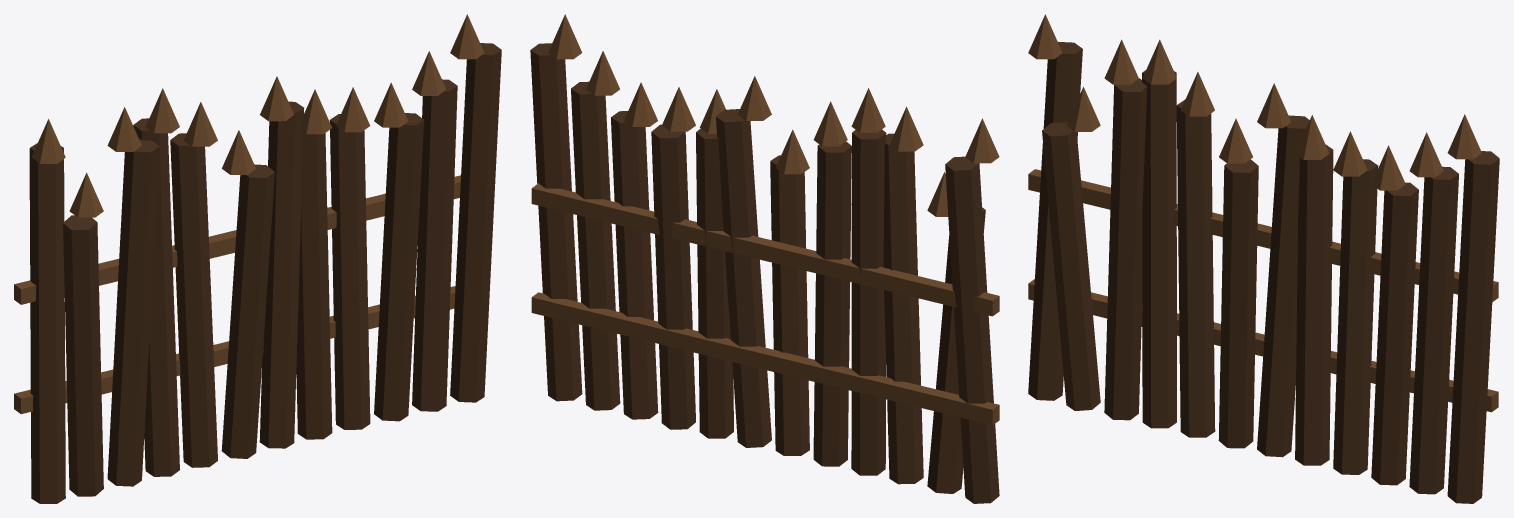
Rendered from sanseong_palisade.glb.
3 views of the same model, side by side, from view 1: azimuth 30°, elevation 25°; view 2: azimuth 150°, elevation 25°; view 3: azimuth 330°, elevation 25° (orthographic).
Visible parts, largest first — view 1: sanseong_palisade; view 2: sanseong_palisade; view 3: sanseong_palisade.
Part boxes in pixels (box(x1,y1,x2,y2)): sanseong_palisade: box(14, 14, 501, 503); sanseong_palisade: box(530, 14, 999, 503); sanseong_palisade: box(1028, 14, 1499, 503).
Size of the model in its own units: 3.16 by 2.46 by 0.4313.
